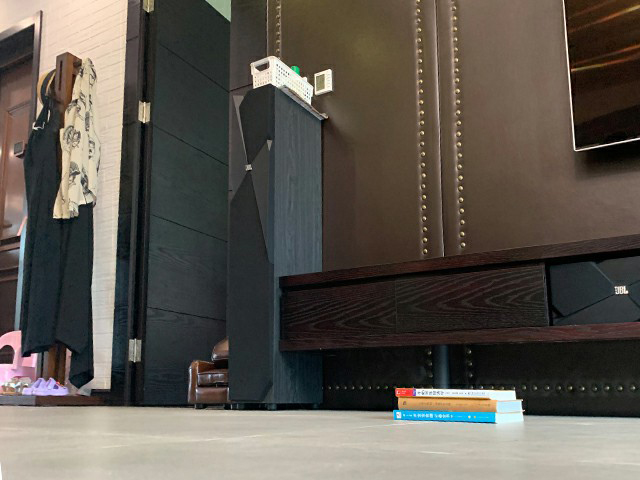book: (391, 386, 526, 426)
cabinet: (282, 232, 640, 394)
slippers: (30, 376, 68, 397)
sofa: (185, 335, 232, 410)
